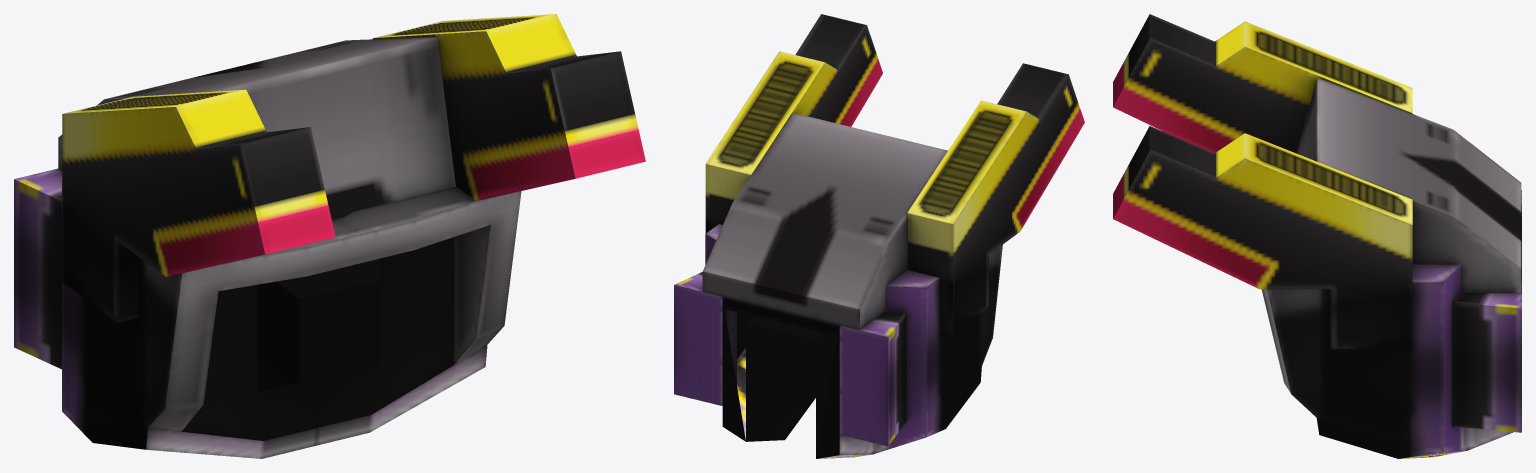
Rendered from datan_common_ss0_arm86_hmsk_db701dfd.obj.
3 views of the same model, side by side, from view 1: azimuth 30°, elevation 25°; view 2: azimuth 150°, elevation 25°; view 3: azimuth 270°, elevation 25° (orthographic). The views are drawn at different scales.
Parts seen in each view (by area): view 1: datan_common_ss0_arm86_hmsk_db701dfd; view 2: datan_common_ss0_arm86_hmsk_db701dfd; view 3: datan_common_ss0_arm86_hmsk_db701dfd.
Part boxes in pixels (left/top/right/bottom): datan_common_ss0_arm86_hmsk_db701dfd: left=14, top=14, right=645, bottom=458; datan_common_ss0_arm86_hmsk_db701dfd: left=674, top=14, right=1084, bottom=458; datan_common_ss0_arm86_hmsk_db701dfd: left=1113, top=14, right=1521, bottom=458.
Bounding box in the file's own units: 1.02 × 1.23 × 1.29.
1 material, 1 textured.
